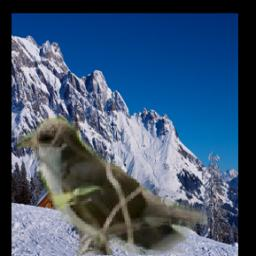Cuckoo: (18, 117, 208, 256)
